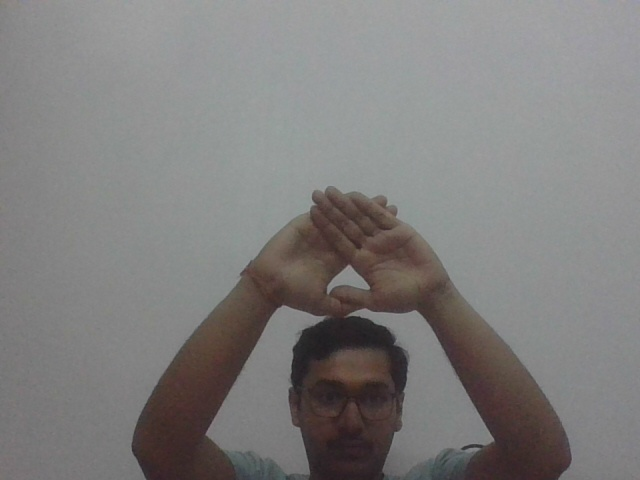W: (272, 184, 440, 318)
